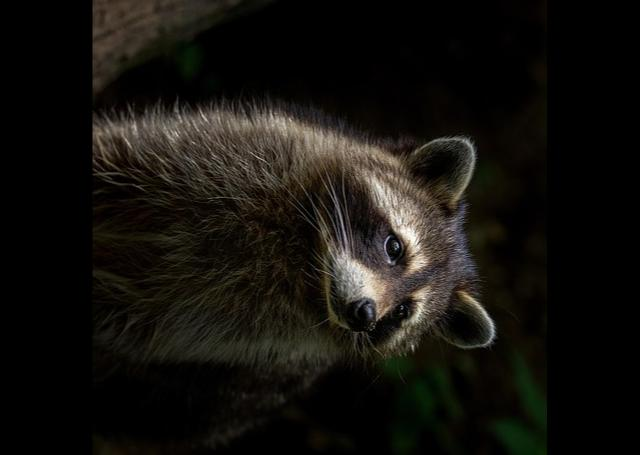Non_Gorille: (99, 25, 525, 455)
